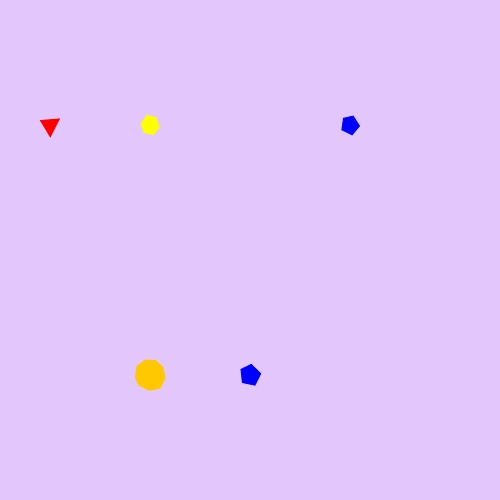hexagon: (135, 112, 165, 138)
nonagon: (130, 356, 170, 395)
pentagon: (235, 360, 265, 390), (336, 111, 364, 139)
triangle: (37, 111, 64, 139)
